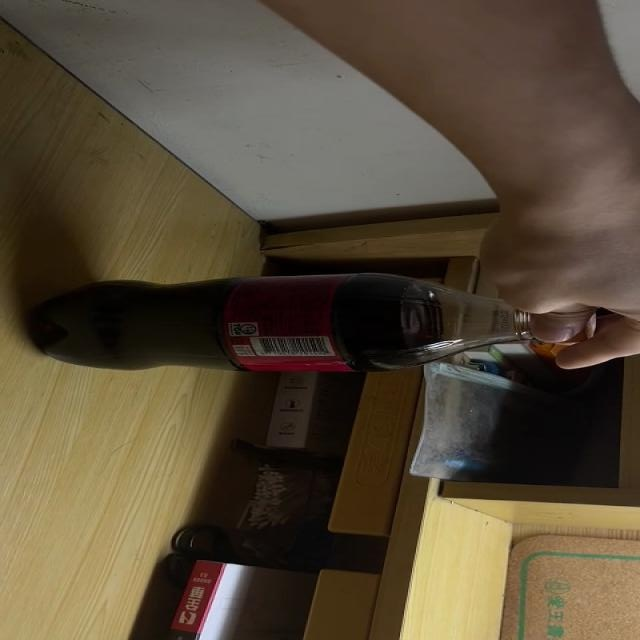Coca-Cola: (34, 272, 598, 375)
